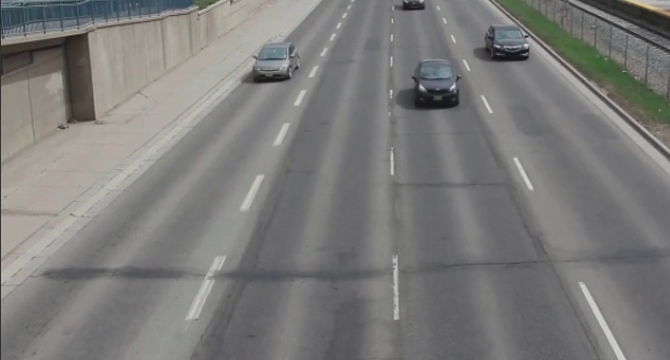car: (248, 39, 299, 83), (413, 61, 464, 105), (484, 20, 535, 64)
